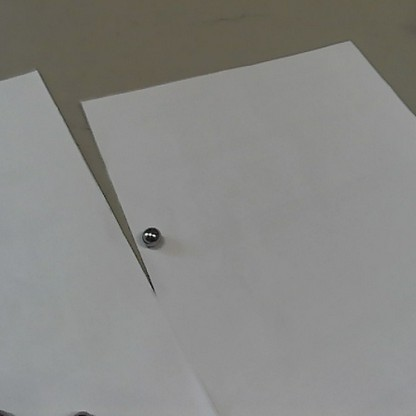ironball: (141, 224, 163, 248)
